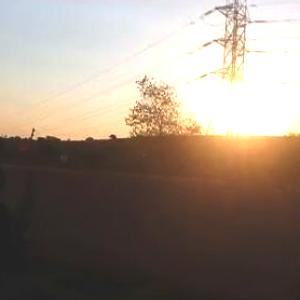follow: (0, 161, 26, 299)
